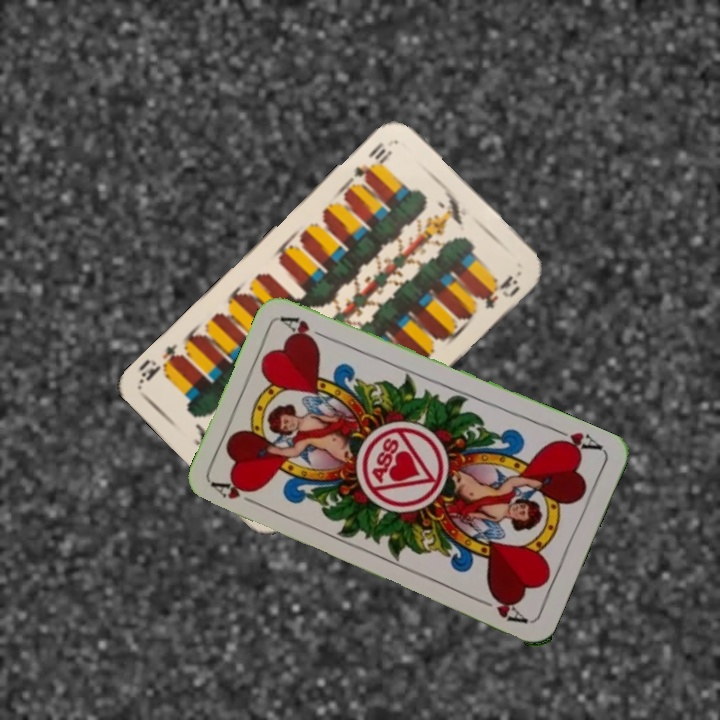E10: (349, 137, 395, 184)
HA: (548, 423, 606, 456), (209, 478, 265, 510)
